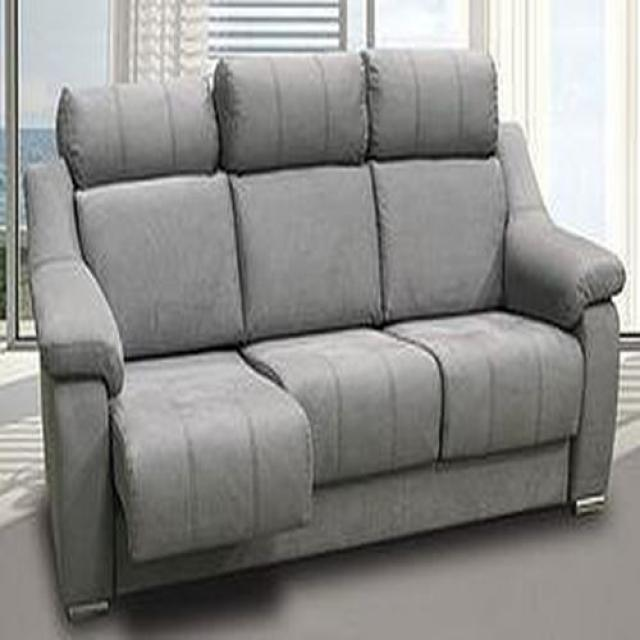sofa: (22, 47, 627, 623)
